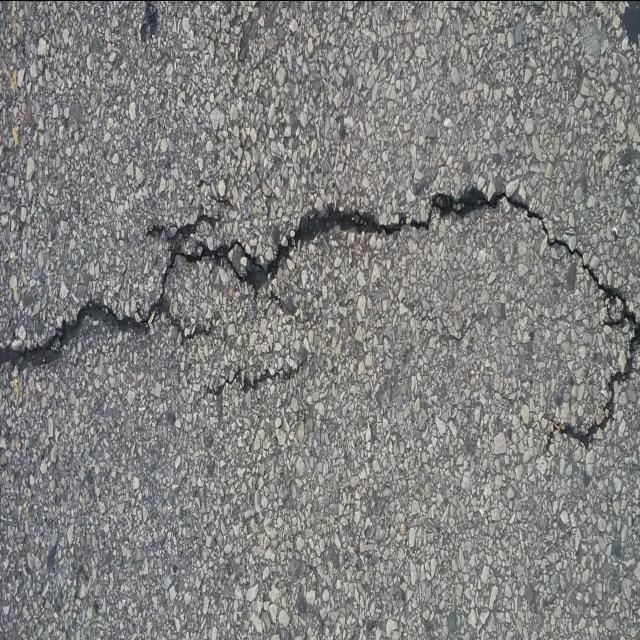Crack: (0, 183, 640, 454)
